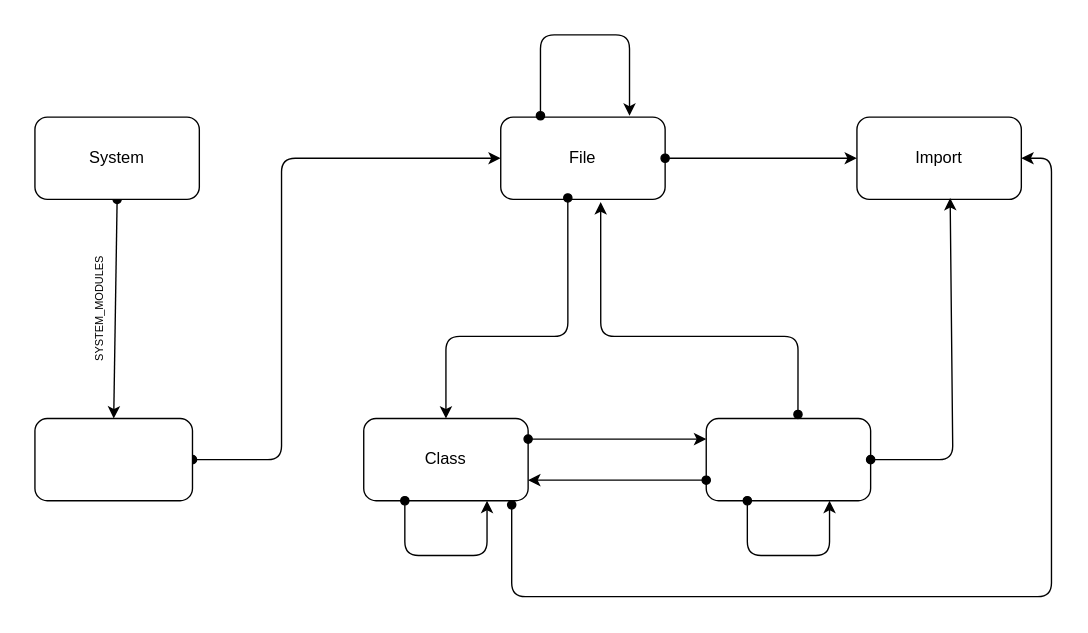
Some shapes in this 1088 by 633 pixel diagram are drawn without their labels. The box of each missing label's shape, as (x1, y1, x2, y2) in pixels:
Function: (705, 417, 871, 501)
Module: (34, 417, 192, 501)
